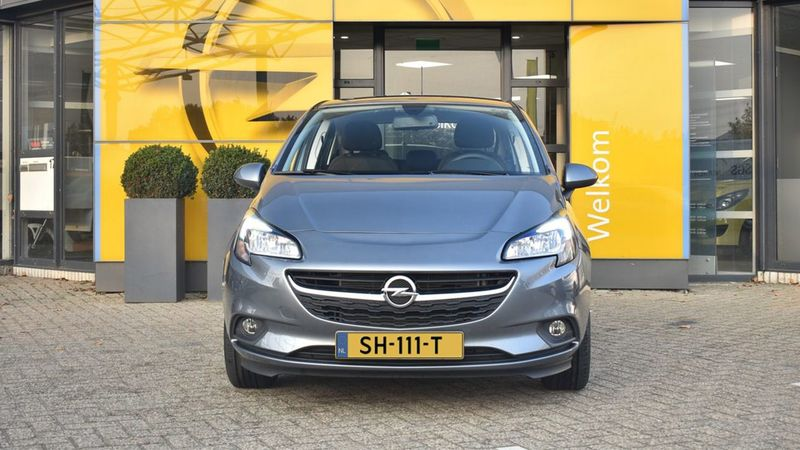kenteken: (336, 332, 464, 357)
